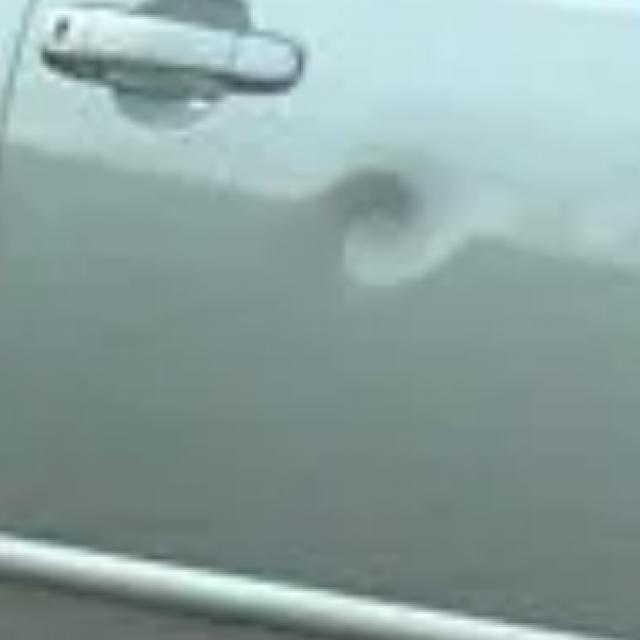dents: (307, 143, 529, 321)
